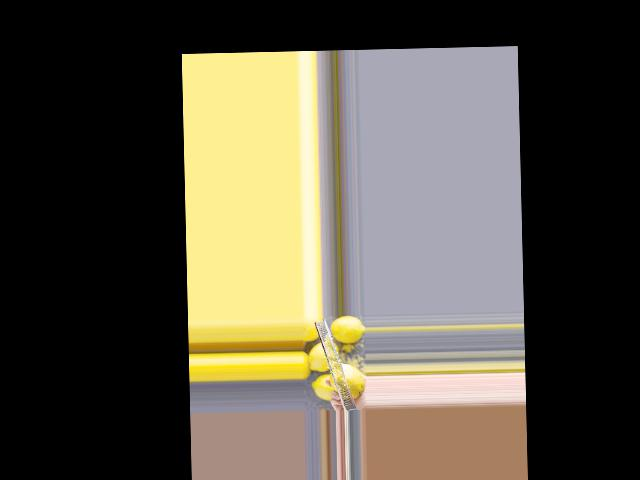lemon: (331, 316, 364, 348)
